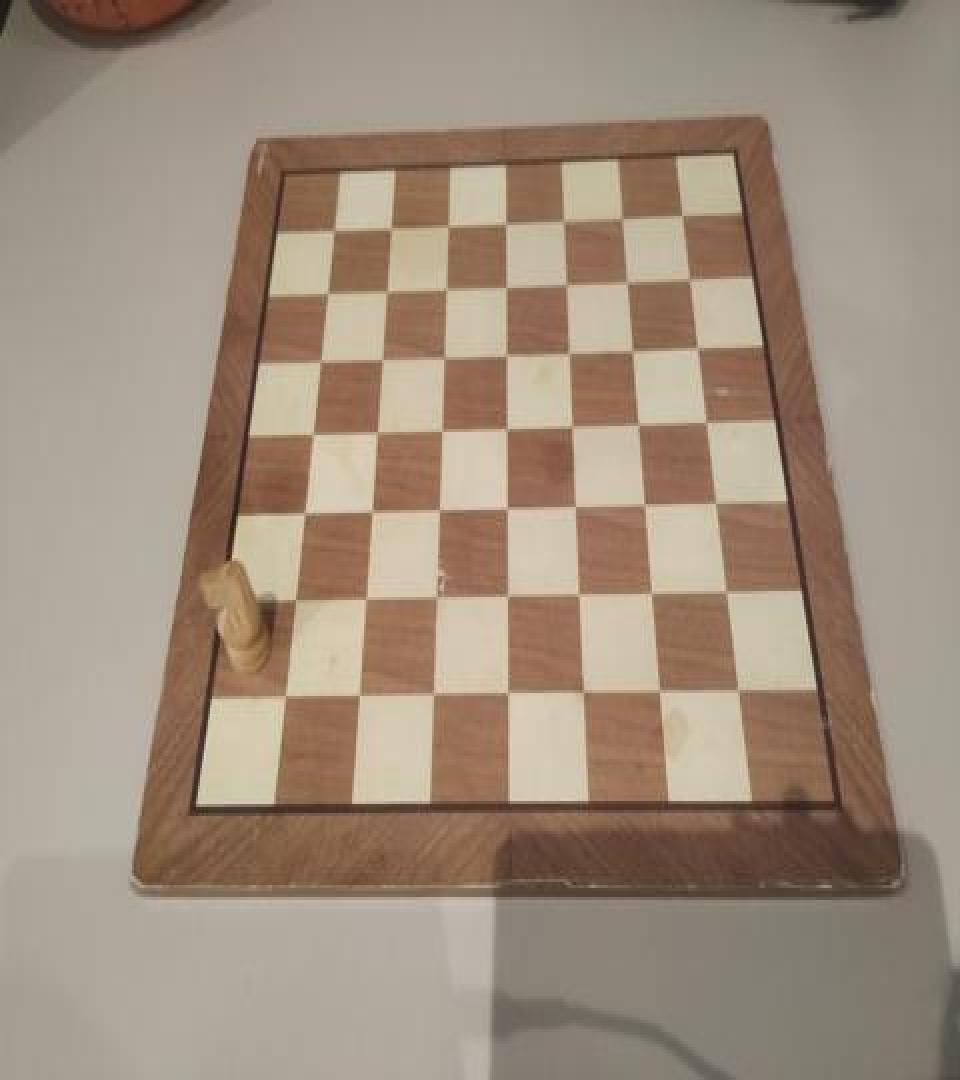xcorner: (673, 199, 693, 230), (273, 684, 293, 714), (347, 684, 367, 714), (423, 684, 443, 714), (283, 585, 303, 615), (354, 585, 374, 615), (426, 585, 446, 615), (498, 584, 518, 614), (571, 584, 591, 614), (644, 582, 664, 612), (718, 582, 738, 612), (293, 496, 313, 526), (361, 495, 381, 525), (429, 495, 449, 525), (498, 494, 518, 524), (567, 492, 587, 522), (637, 492, 657, 522), (707, 490, 727, 520), (301, 414, 321, 444), (366, 414, 386, 444), (432, 412, 452, 442), (498, 411, 518, 441), (564, 410, 584, 440), (630, 410, 650, 440), (697, 408, 717, 438), (309, 340, 329, 370), (372, 339, 392, 369), (434, 338, 454, 368), (497, 336, 517, 366), (561, 334, 581, 364), (624, 333, 644, 363), (689, 332, 709, 362), (317, 272, 337, 302), (376, 270, 396, 300), (437, 268, 457, 298), (497, 267, 517, 297), (558, 266, 578, 296), (619, 264, 639, 294), (680, 262, 700, 292), (323, 208, 343, 238), (381, 207, 401, 237), (439, 206, 459, 236), (497, 204, 517, 234), (555, 202, 575, 232), (614, 201, 634, 231), (499, 683, 519, 712), (575, 683, 595, 712), (652, 683, 672, 712), (730, 683, 750, 712)
